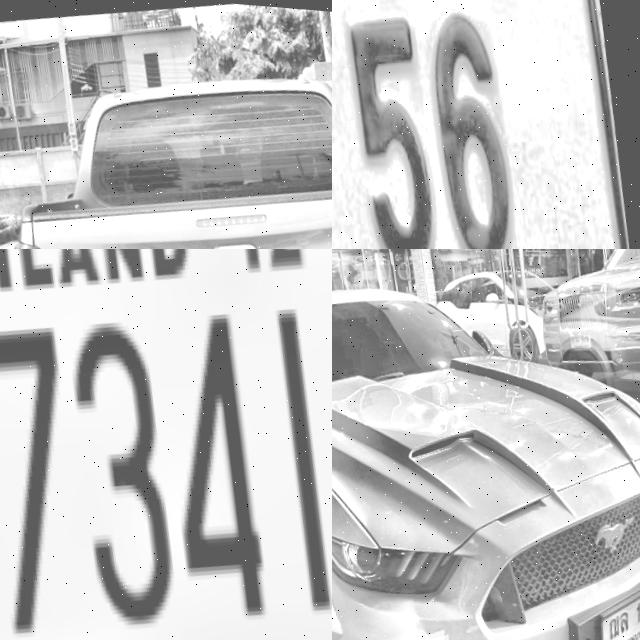license-plate: (0, 249, 332, 640), (332, 0, 640, 249), (585, 557, 640, 640)
